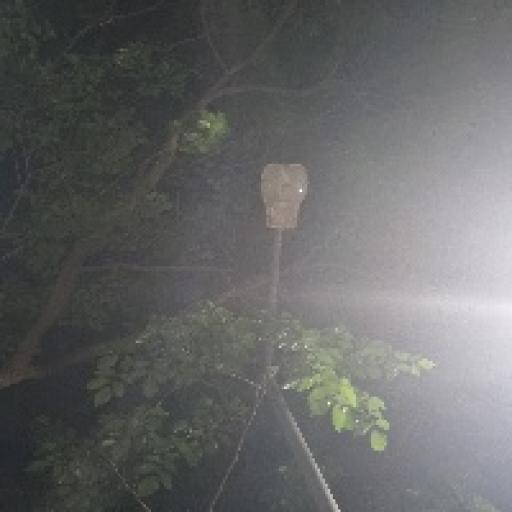Not Working: (245, 152, 322, 243)
